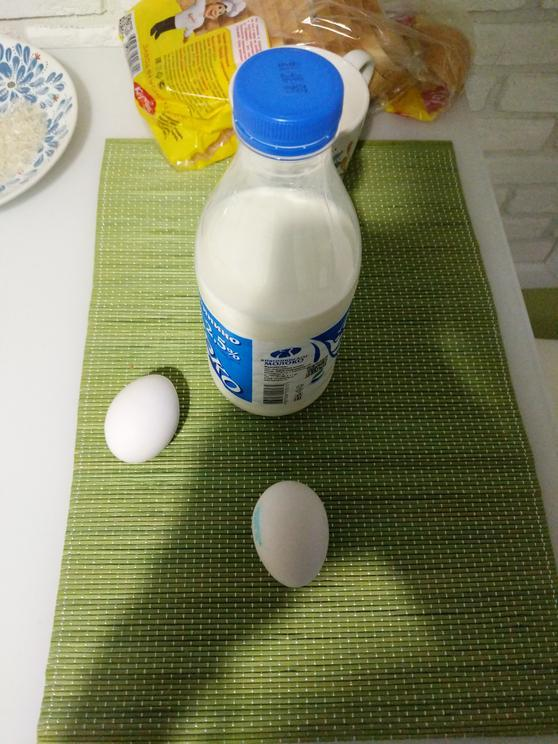egg: (235, 464, 360, 604), (90, 359, 187, 480)
milk: (189, 33, 388, 426)
